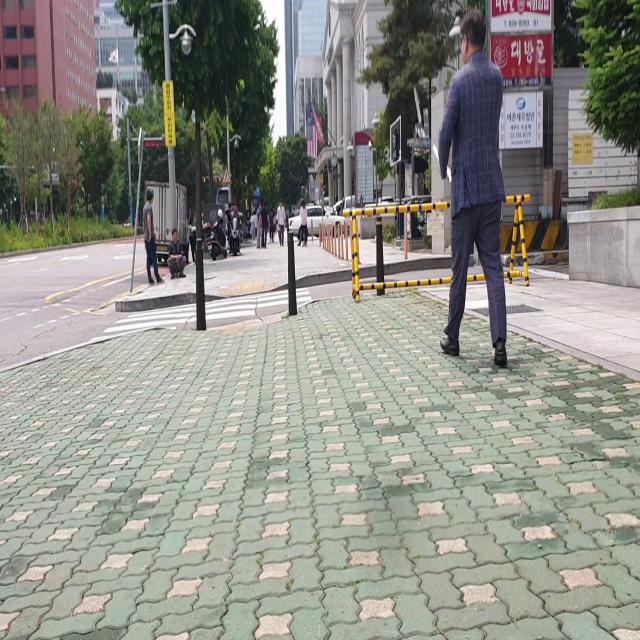횡단보도: (90, 286, 312, 344)
